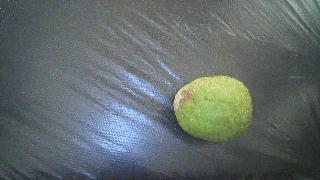DESECHO: (173, 76, 252, 142)
